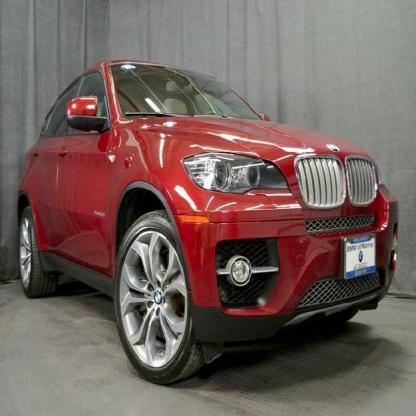Vehicle: (12, 55, 415, 390)
